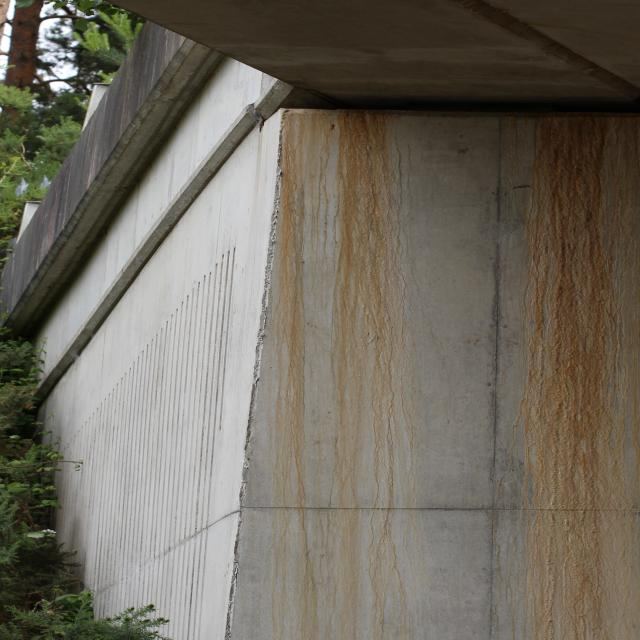corrosion: (265, 102, 640, 640)
